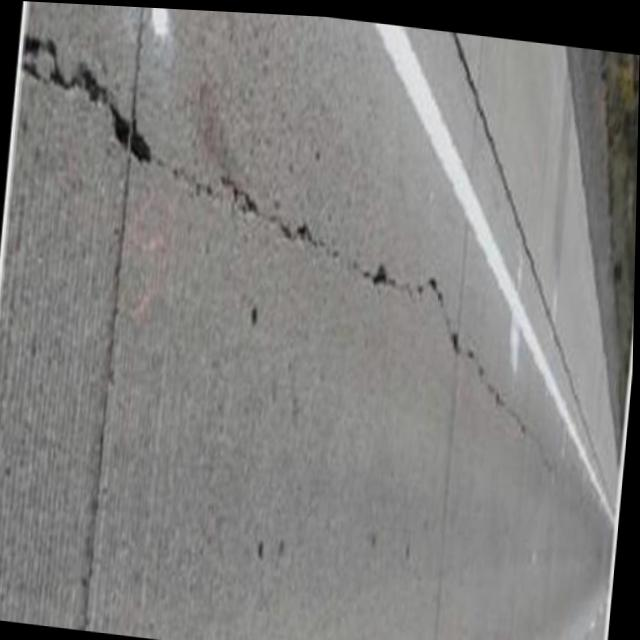Crack: (0, 14, 590, 478)
